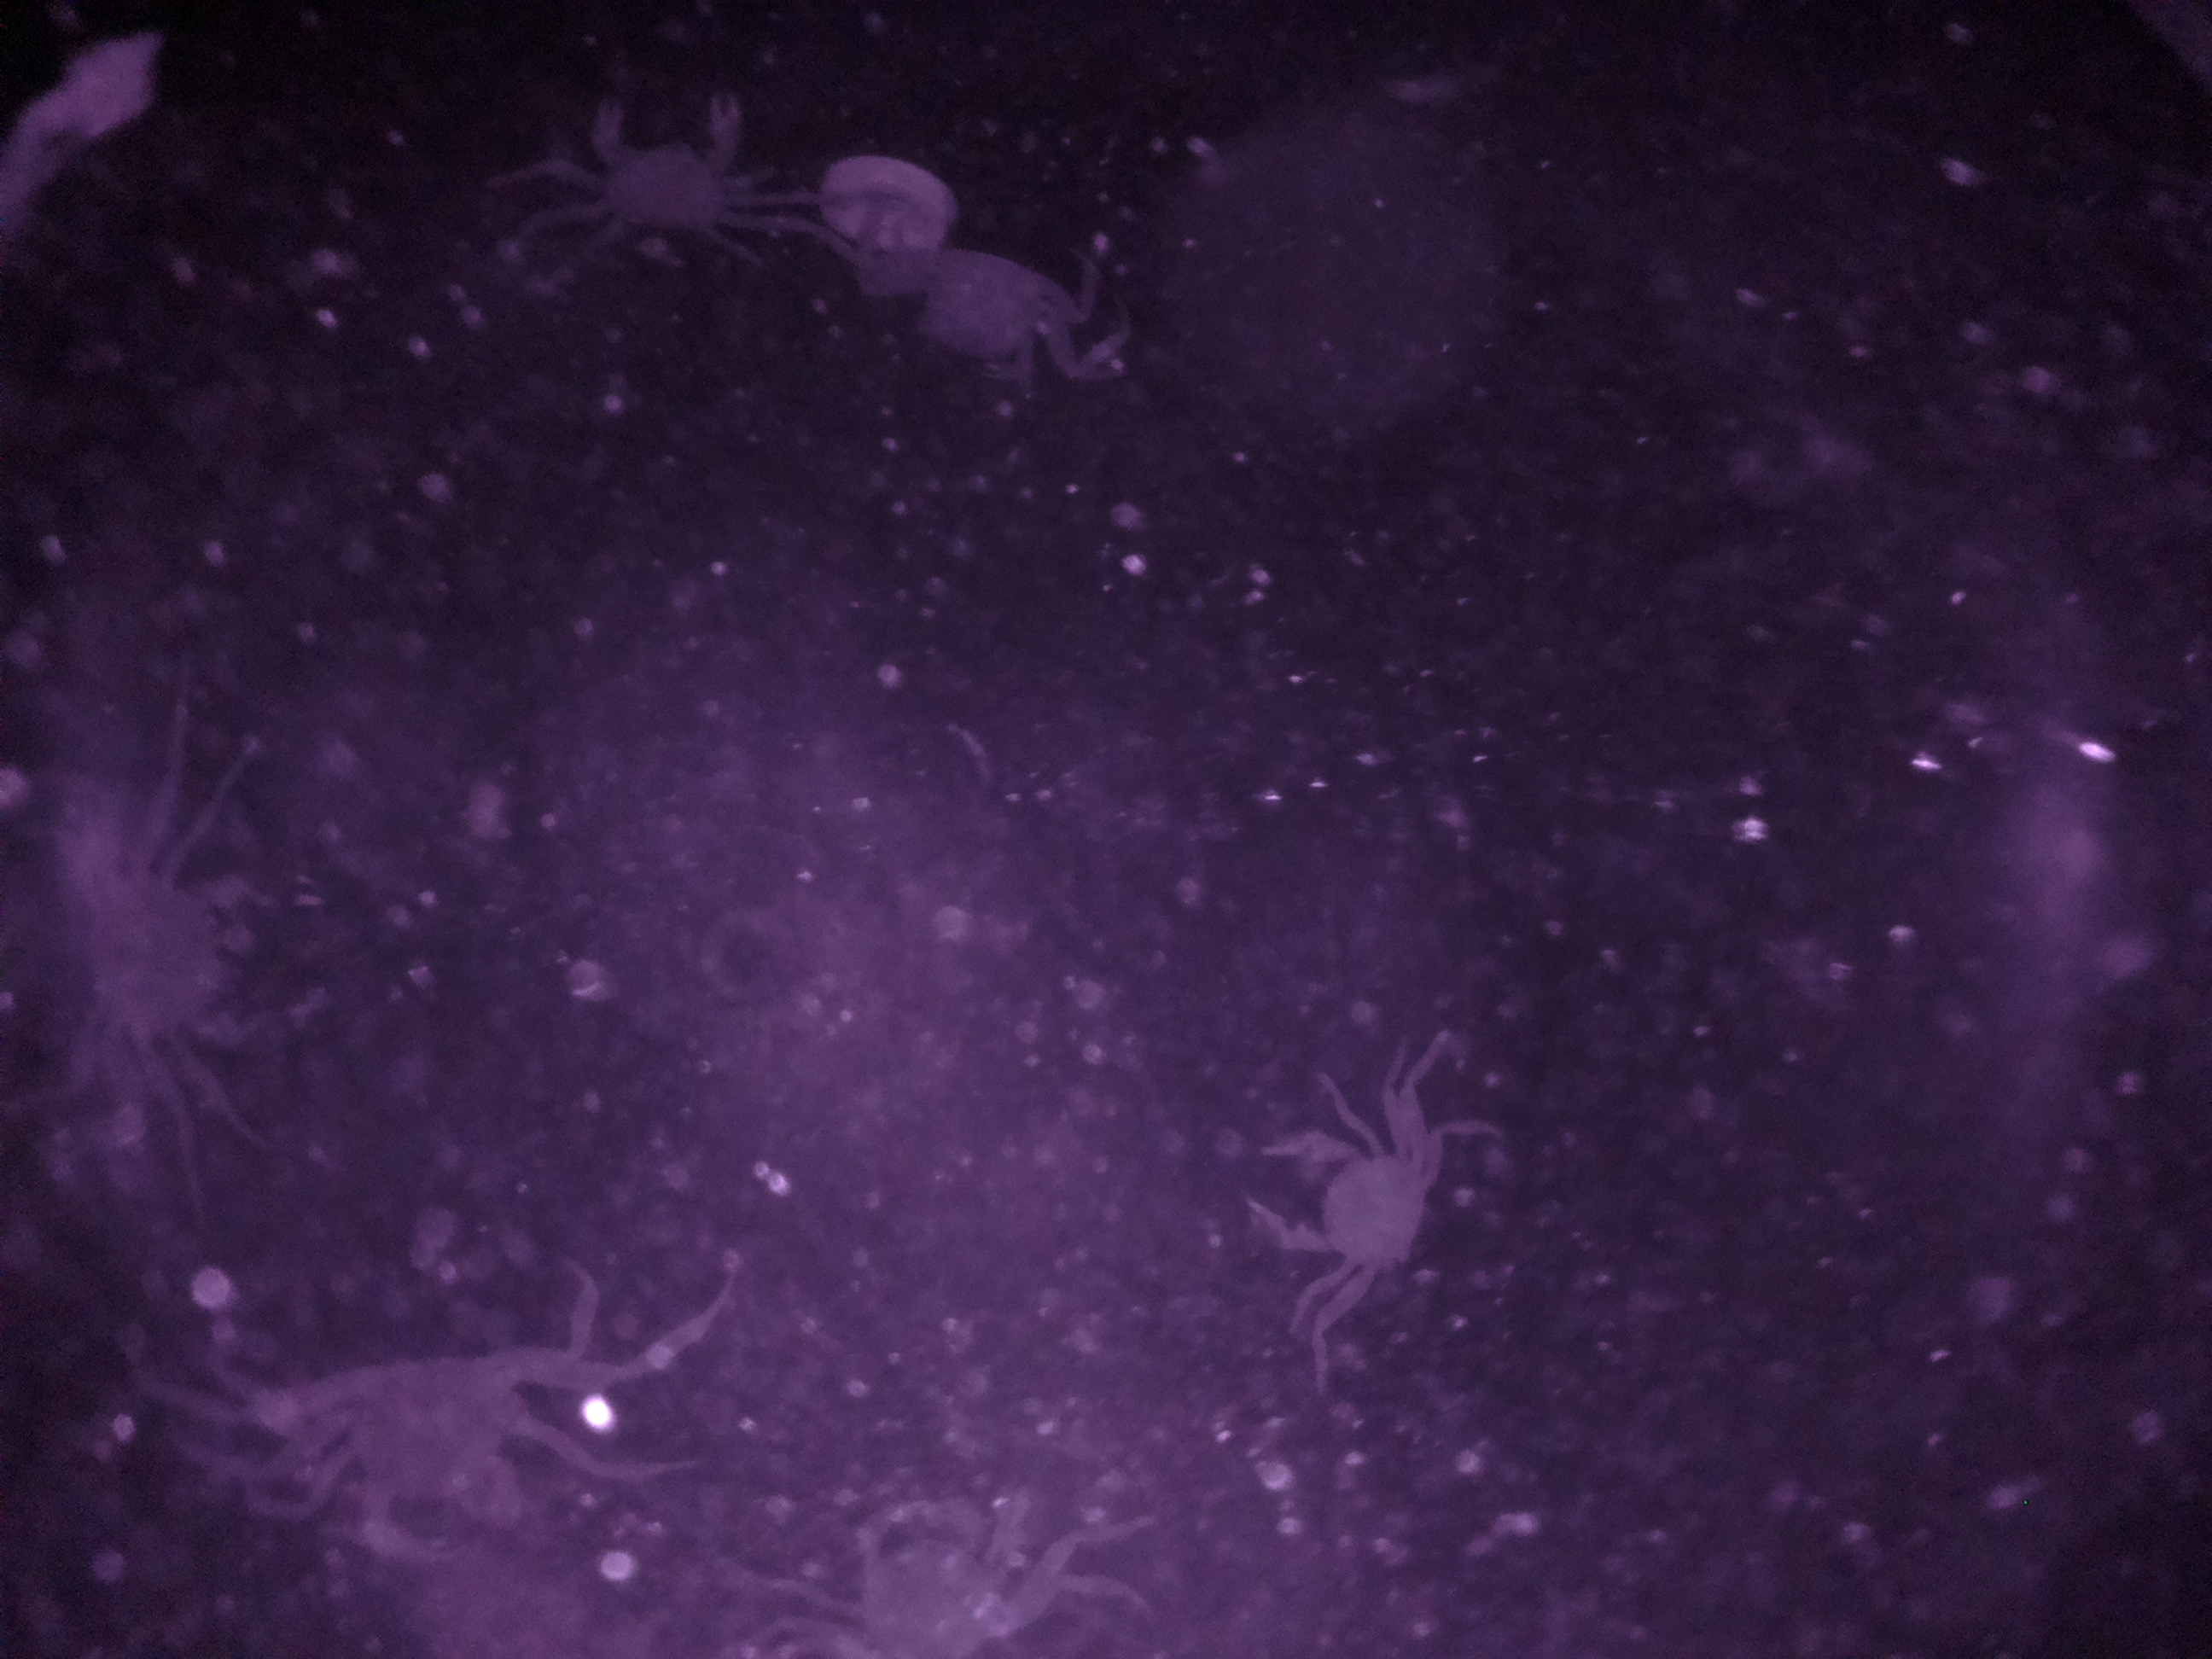Crab: (1221, 1093, 1439, 1303), (552, 73, 765, 261)
